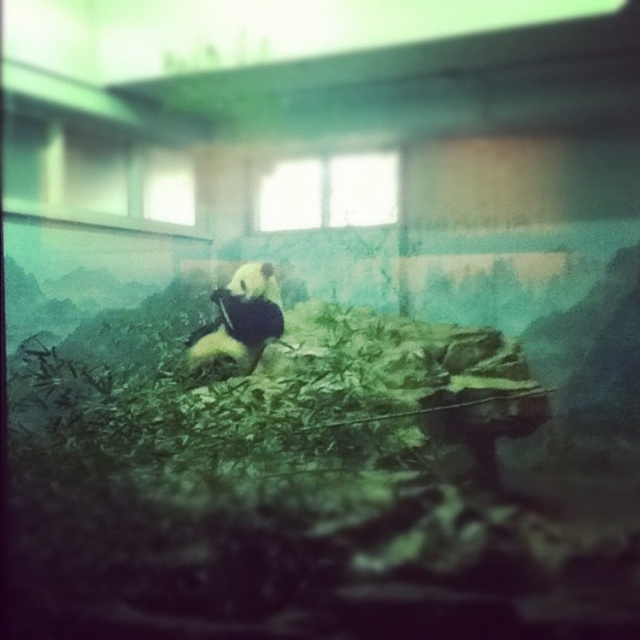Panda: (189, 254, 288, 374)
